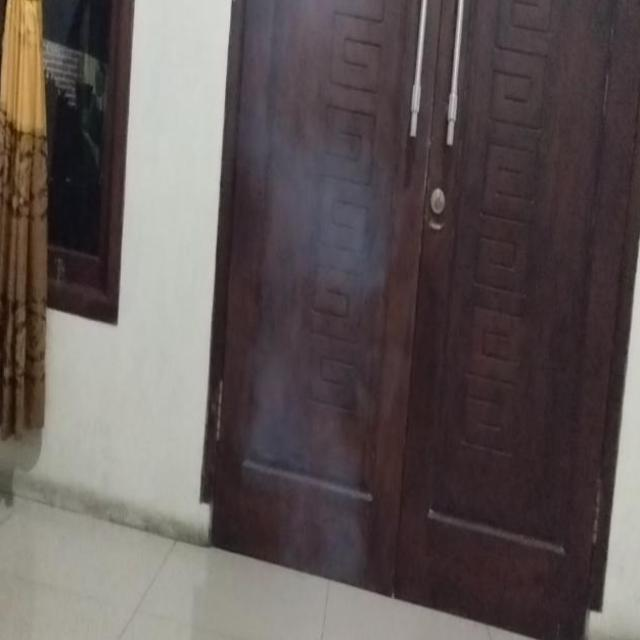fire: (238, 330, 366, 601), (257, 125, 397, 302)
